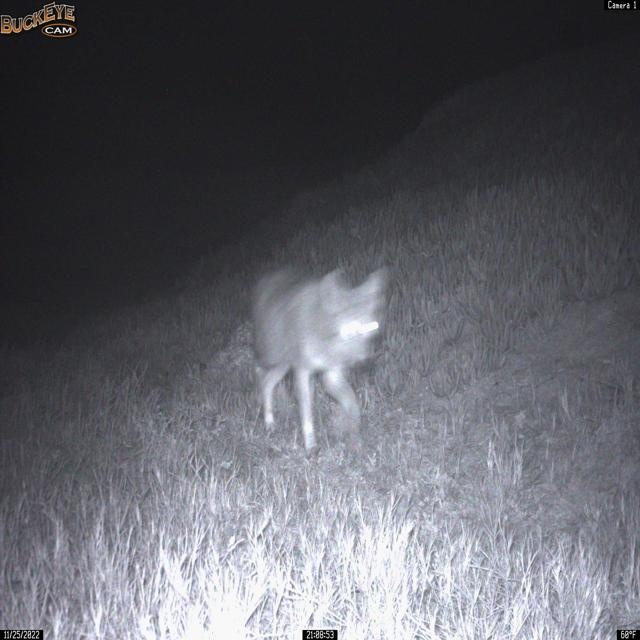coyote: (248, 262, 391, 458)
